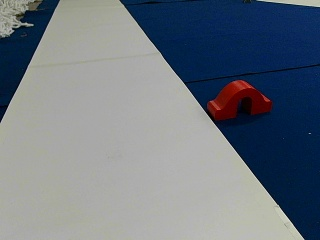bridge: (208, 80, 270, 117)
